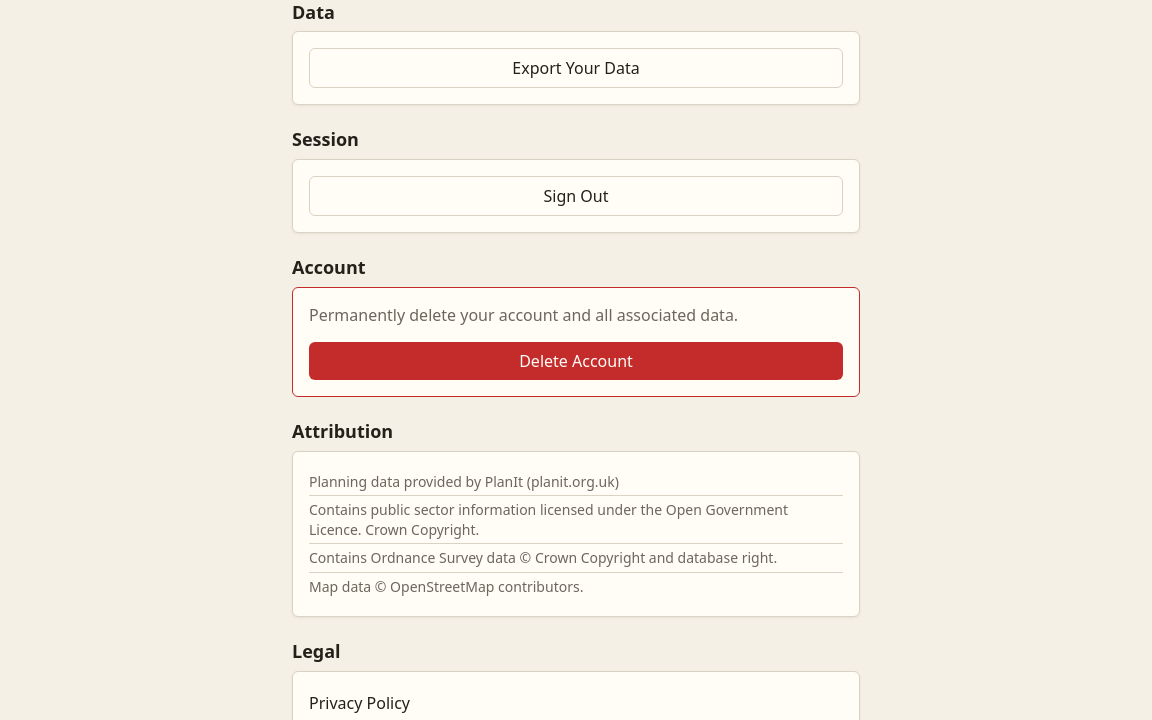
Test case: SettingsPage › shows confirm dialog when delete account is clicked
The image size is (1152, 720).
(page scrolled)
Click the button "Delete Account" at [576, 361], box [309, 342, 843, 380]
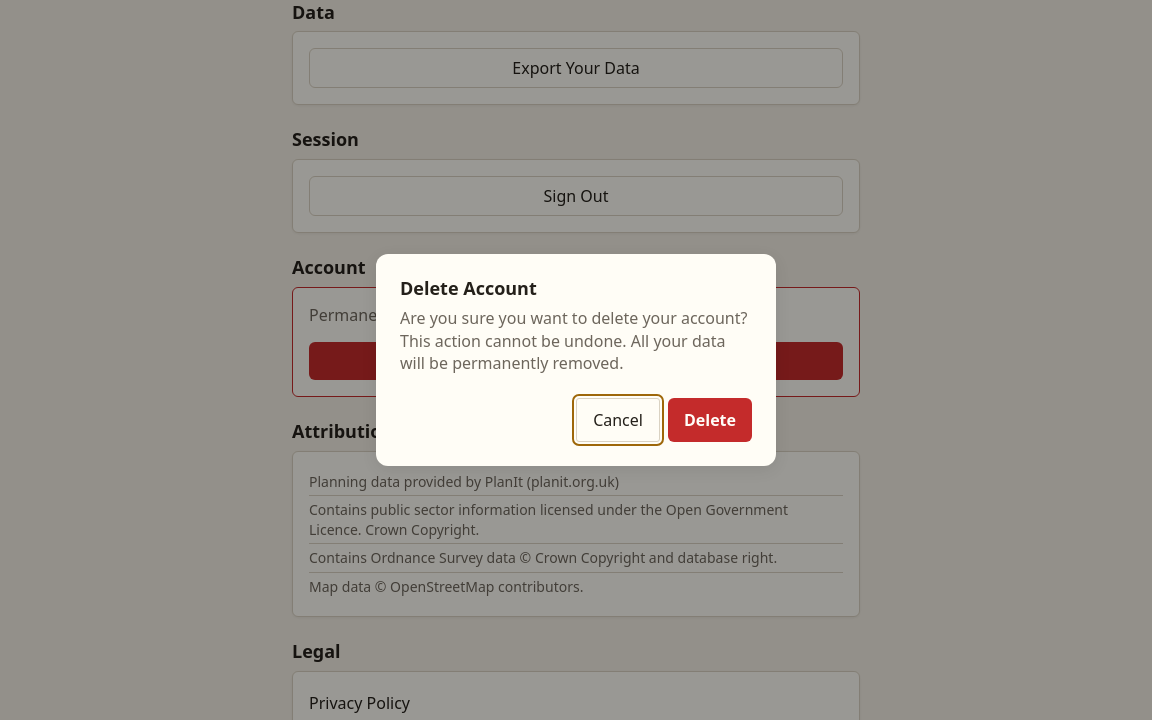
Now the dialog is shown, box [376, 254, 776, 466]
Now the text "Are you sure" is shown, box [400, 307, 748, 374]
